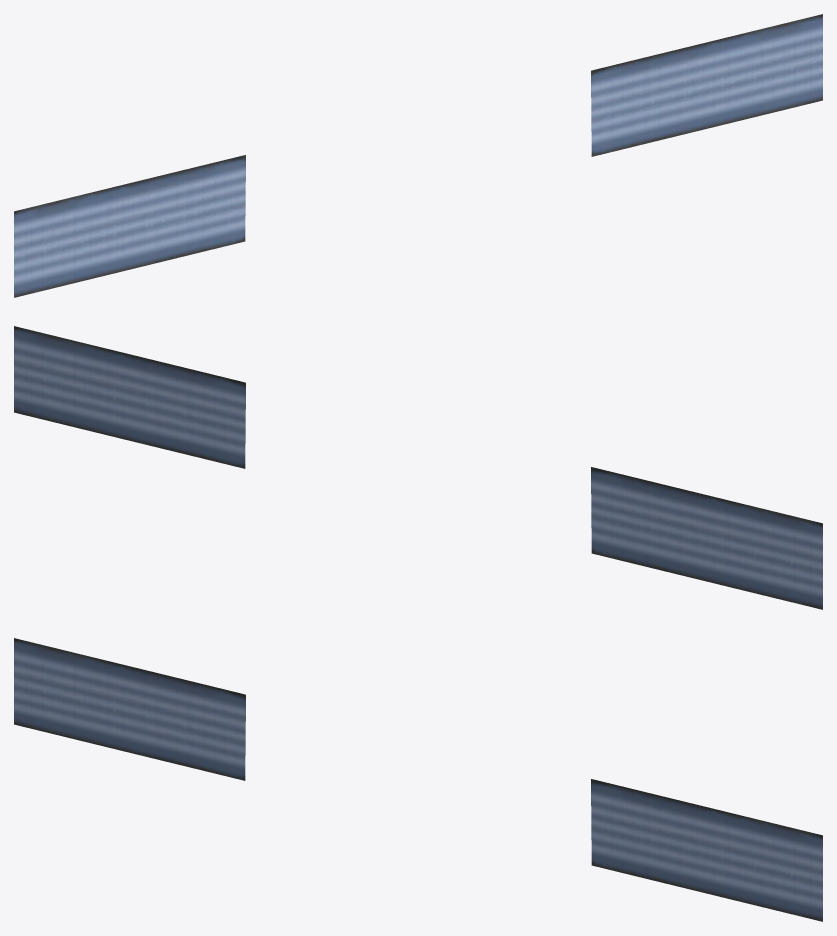
File: imperial_gunboat_engine_on_l3.fbx
3 renders of one model, top to bottom at view 1: azimuth 30°, elevation 25°; view 2: azimuth 150°, elevation 25°; view 3: azimuth 330°, elevation 25°, orthographic.
Visible parts, largest first — view 1: mesh_node; view 2: mesh_node; view 3: mesh_node.
Boxes of the visible parts, x1,y1,x2,y2 form: mesh_node: (14,14,822,297); mesh_node: (14,326,822,609); mesh_node: (14,638,822,921).
Size of the model in its own units: 37.48 by 3.83 by 0.
1 material, 1 textured.
